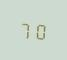seven: (19, 19, 32, 39)
zero: (33, 20, 46, 40)
